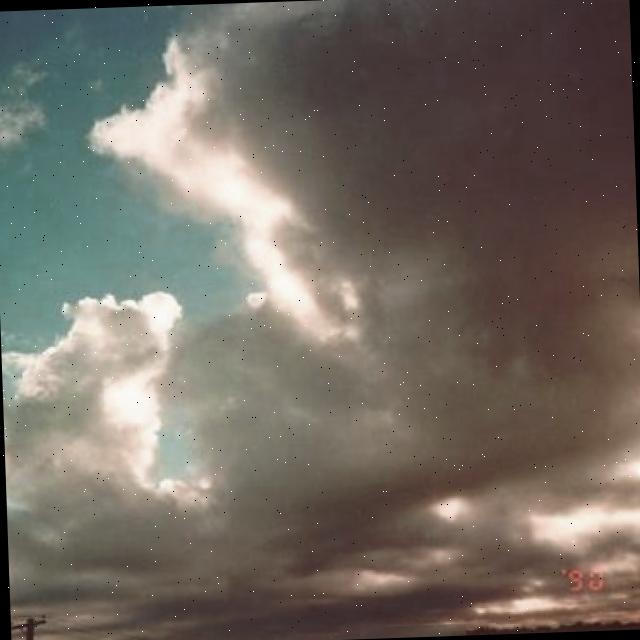St: (1, 23, 640, 495)
